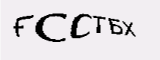В: (78, 29, 101, 50)
К: (54, 25, 75, 50)
Т: (111, 22, 128, 43)
Ф: (30, 22, 51, 49)
Х: (100, 25, 115, 46)
